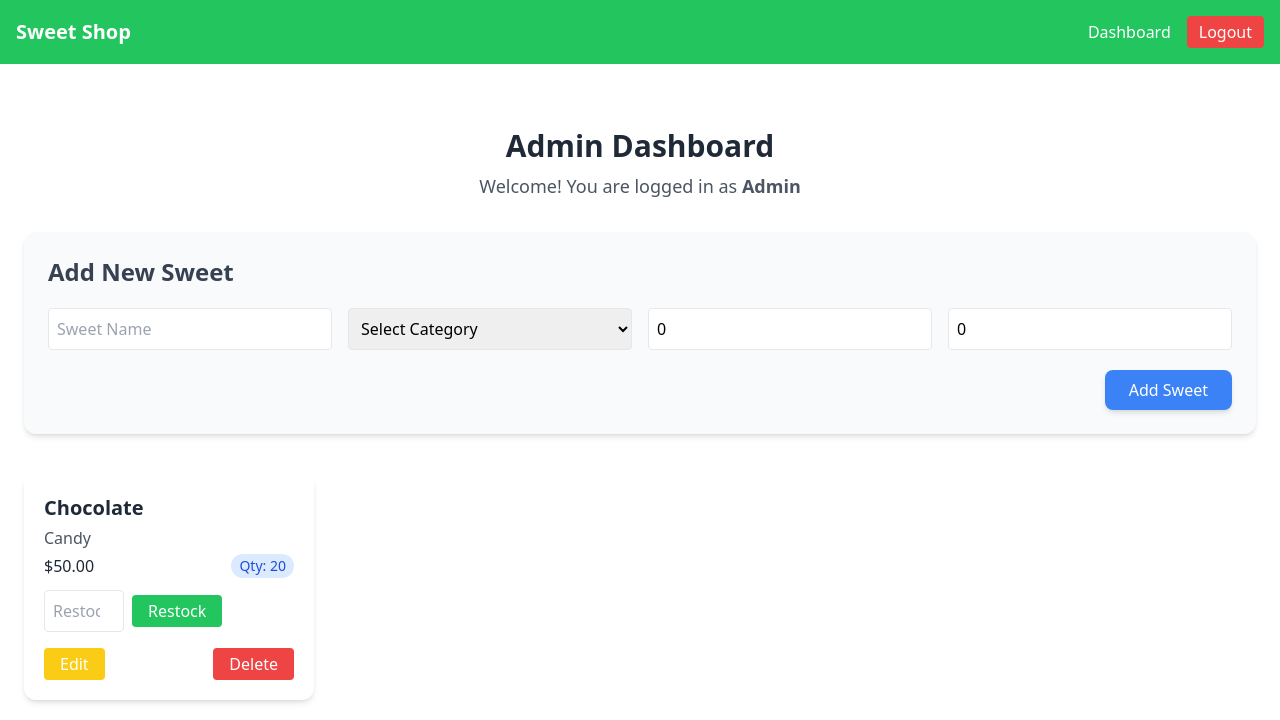
Scenario: Admin Dashboard Sweet Management (TDD) › deletes a sweet
Click the button with test id "delete-1" at (254, 664), box left=213, top=648, right=294, bottom=680
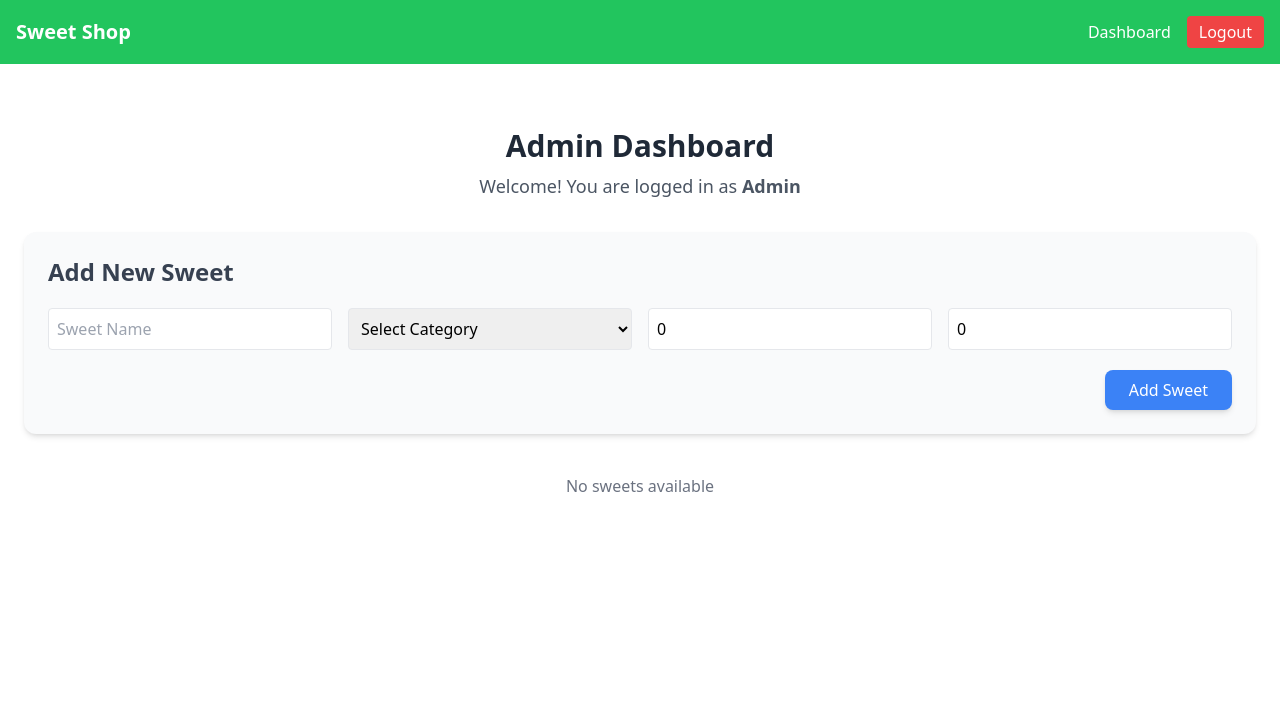
Check: the element with test id "sweet-1" is gone
